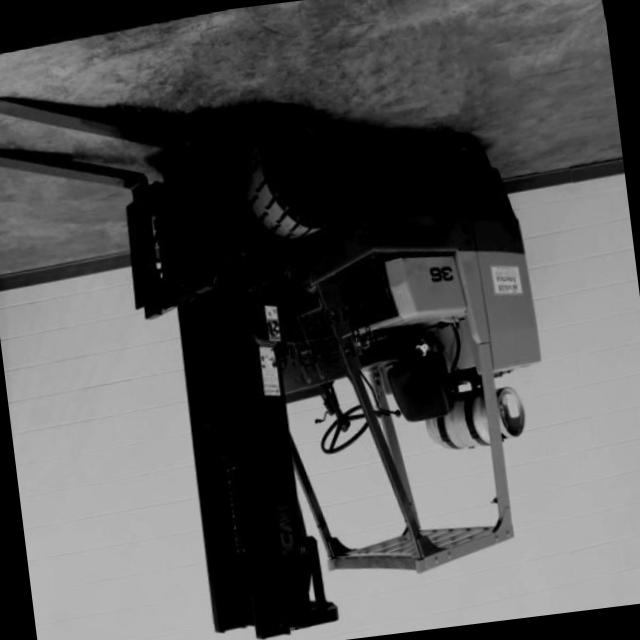forklift: (63, 9, 602, 640)
